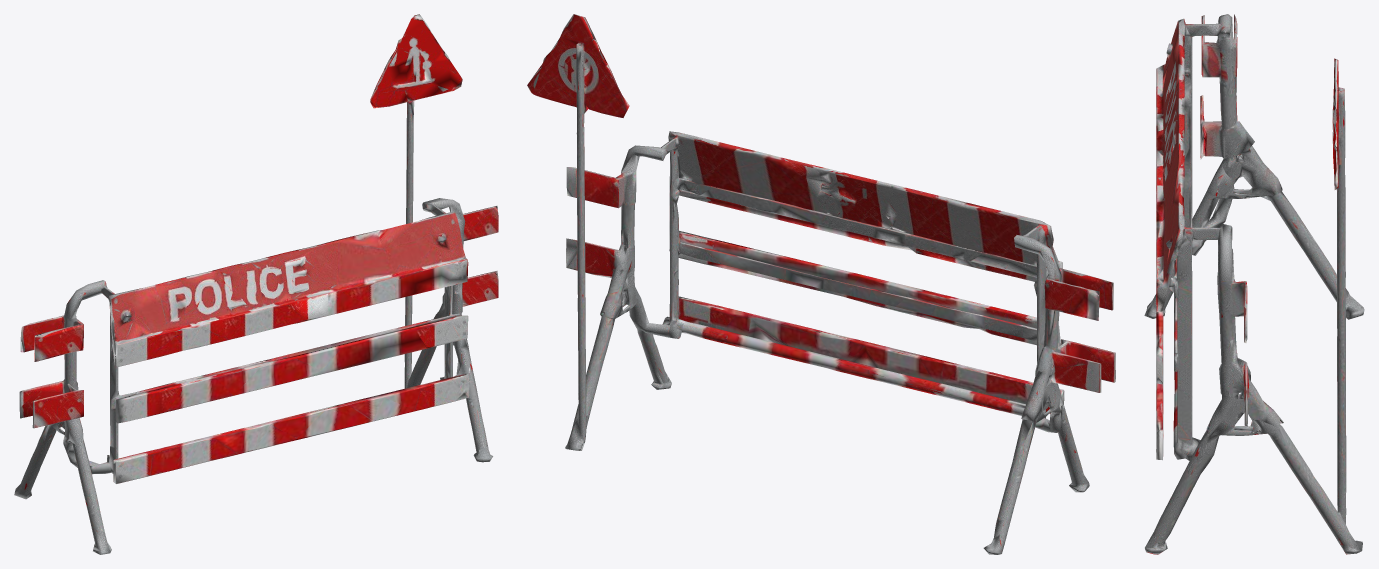
File: cordon.glb
3 views of the same model, side by side, from view 1: azimuth 30°, elevation 25°; view 2: azimuth 150°, elevation 25°; view 3: azimuth 270°, elevation 25° (orthographic). The views are drawn at different scales.
Size of the model in its own units: 1.9 by 1.48 by 0.5957.
Materials: 1 (1 with a texture image).
